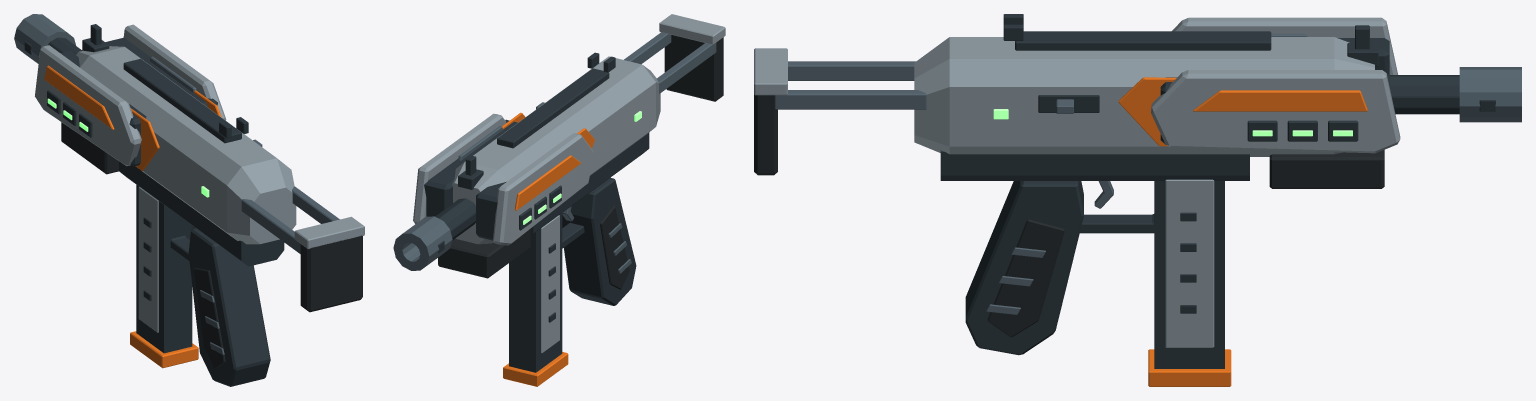
The model's file is uzi.glb.
3 renders of one model, left to right at view 1: azimuth 30°, elevation 25°; view 2: azimuth 150°, elevation 25°; view 3: azimuth 270°, elevation 25°, orthographic. The views are drawn at different scales.
Visible parts, largest first — view 1: Body | 01 | ceramic gray receiver, Body | 03 | graphite steel, Body | 05 | charcoal grip polymer, Magazine | 03 | graphite steel, Body | 02 | machined edge metal, Magazine | 01 | ceramic gray receiver, Body | 04 | burnt orange enamel, Magazine | 04 | burnt orange enamel; view 2: Body | 01 | ceramic gray receiver, Body | 03 | graphite steel, Body | 05 | charcoal grip polymer, Magazine | 03 | graphite steel, Body | 02 | machined edge metal, Magazine | 01 | ceramic gray receiver, Body | 04 | burnt orange enamel, Magazine | 04 | burnt orange enamel; view 3: Body | 01 | ceramic gray receiver, Body | 03 | graphite steel, Body | 05 | charcoal grip polymer, Body | 02 | machined edge metal, Magazine | 01 | ceramic gray receiver, Magazine | 03 | graphite steel, Body | 04 | burnt orange enamel, Magazine | 04 | burnt orange enamel.
Boxes of the visible parts, left/top/right/bottom form: Body | 01 | ceramic gray receiver: left=35, top=24, right=364, bottom=249; Body | 03 | graphite steel: left=24, top=24, right=284, bottom=386; Body | 05 | charcoal grip polymer: left=61, top=122, right=362, bottom=368; Magazine | 03 | graphite steel: left=136, top=185, right=192, bottom=353; Body | 02 | machined edge metal: left=14, top=14, right=339, bottom=354; Magazine | 01 | ceramic gray receiver: left=138, top=187, right=158, bottom=332; Body | 04 | burnt orange enamel: left=44, top=65, right=221, bottom=170; Magazine | 04 | burnt orange enamel: left=130, top=331, right=198, bottom=368; Body | 01 | ceramic gray receiver: left=413, top=14, right=725, bottom=245; Body | 03 | graphite steel: left=424, top=52, right=649, bottom=305; Body | 05 | charcoal grip polymer: left=438, top=35, right=723, bottom=289; Magazine | 03 | graphite steel: left=509, top=213, right=562, bottom=372; Body | 02 | machined edge metal: left=393, top=32, right=716, bottom=273; Magazine | 01 | ceramic gray receiver: left=541, top=215, right=559, bottom=353; Body | 04 | burnt orange enamel: left=502, top=112, right=594, bottom=210; Magazine | 04 | burnt orange enamel: left=503, top=352, right=568, bottom=386; Body | 01 | ceramic gray receiver: left=754, top=17, right=1400, bottom=156; Body | 03 | graphite steel: left=940, top=14, right=1495, bottom=355; Body | 05 | charcoal grip polymer: left=754, top=94, right=1384, bottom=337; Body | 02 | machined edge metal: left=775, top=33, right=1521, bottom=314; Magazine | 01 | ceramic gray receiver: left=1165, top=179, right=1214, bottom=347; Magazine | 03 | graphite steel: left=1154, top=181, right=1224, bottom=368; Body | 04 | burnt orange enamel: left=1118, top=77, right=1367, bottom=146; Magazine | 04 | burnt orange enamel: left=1148, top=349, right=1231, bottom=386.
Size of the model in its own units: 0.122 by 0.312 by 0.6108.
